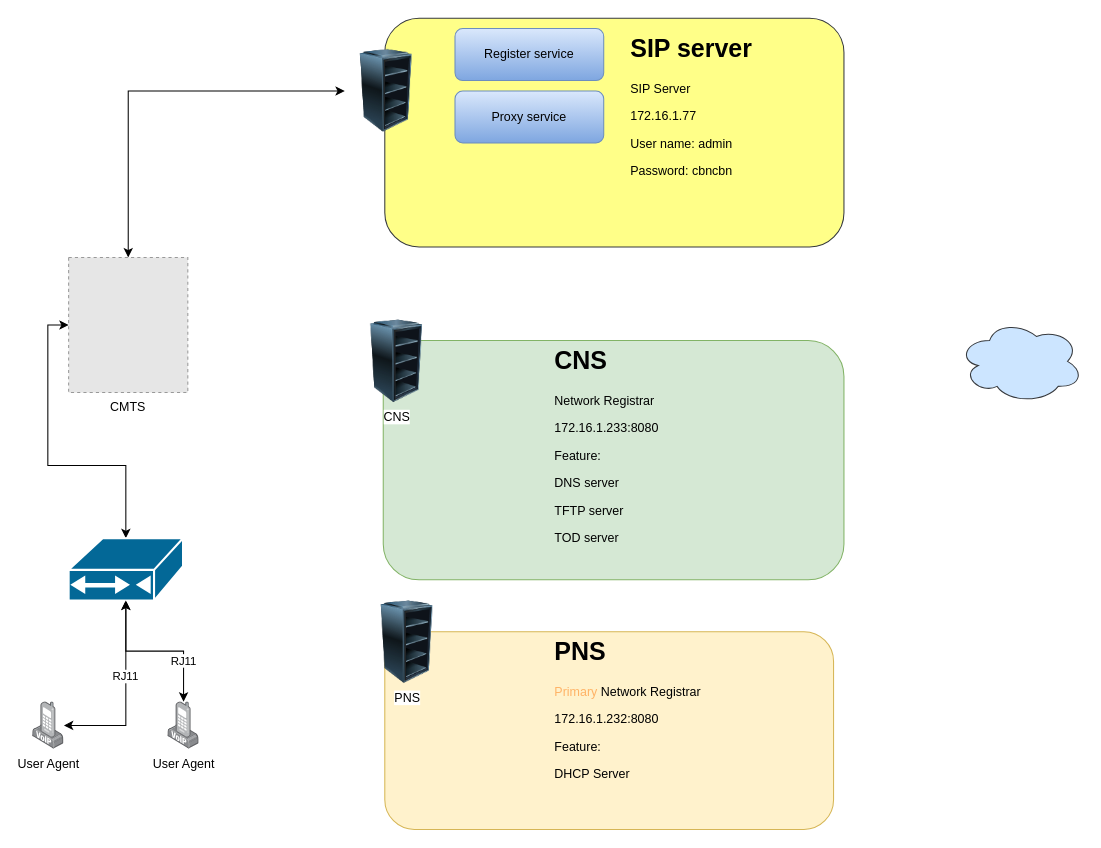
Some shapes in this 1101 by 848 pixel diagram are drawn without their labels. Grey dashed boxes stand in for pictures. Here are the shapes that lost their labels. From the top down, the centre of each, then its label:
pixel 385 90: SIP Server
pixel 1020 361: PSTN
pixel 125 569: Cable Modem
